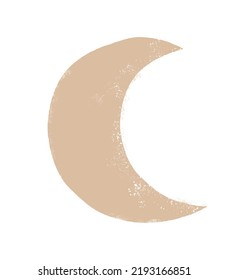moon: (46, 35, 211, 224)
